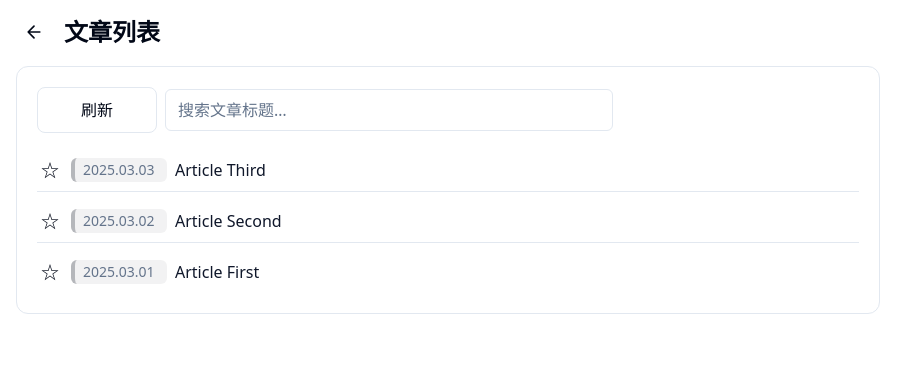
Article list interaction (S010) › Happy path › refresh list without losing current context
Expected: the link "Article Third" is shown, [175,159,266,181]
Expected: the text "Article After Refresh" is not shown
Step 1. Click the button "刷新" → (97, 110), box [37,87,157,133]
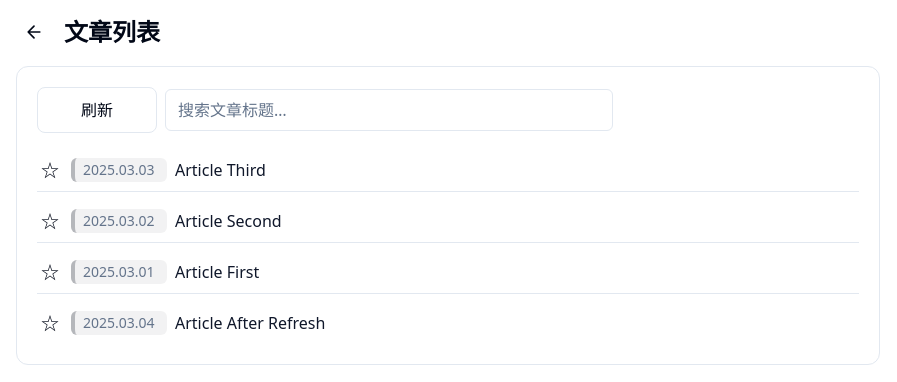
Expected: the heading "文章列表" is shown, [64,16,160,48]
Now the link "Article After Refresh" is shown, box [175,312,325,334]
